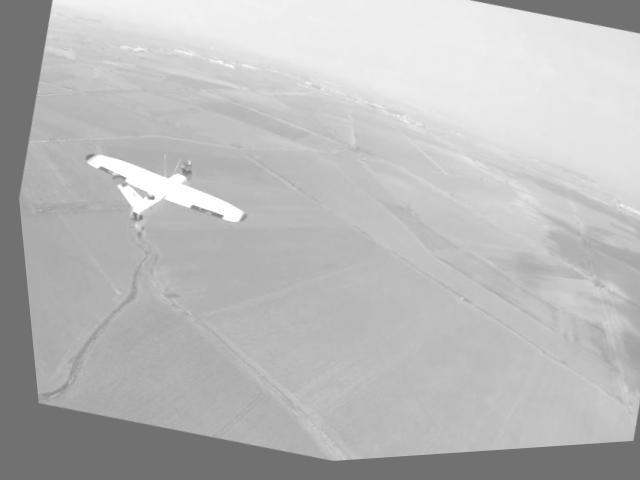hedef: (44, 101, 288, 295)
